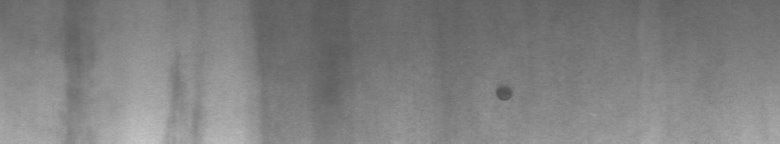fi: (492, 80, 516, 108)
